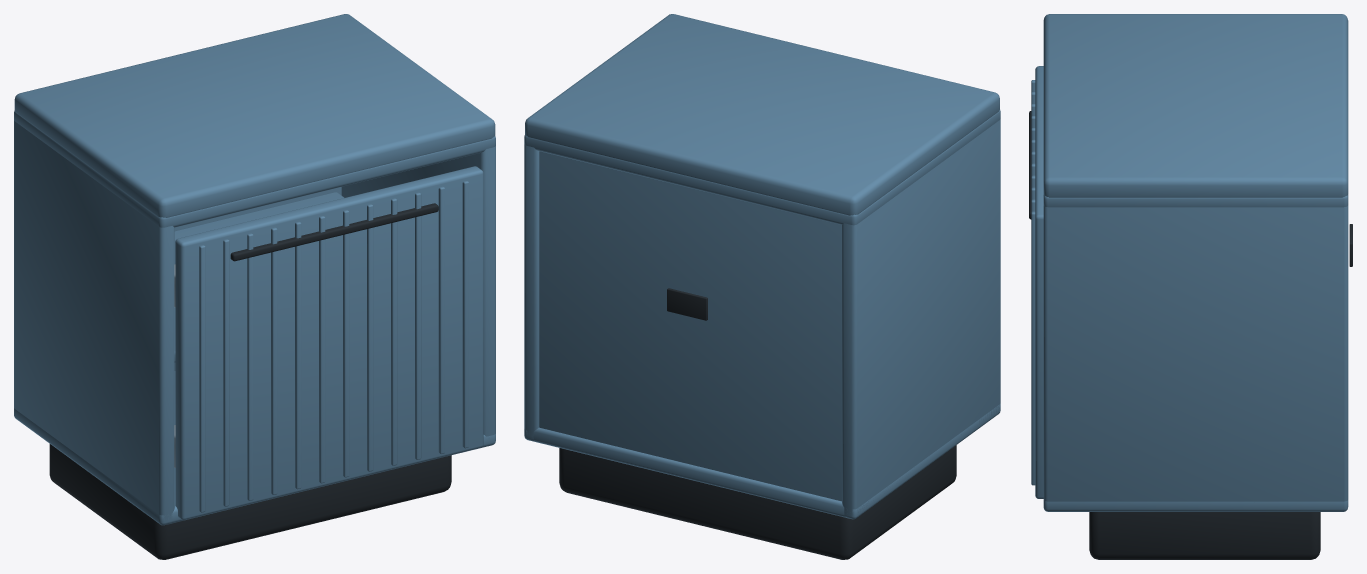
Rendered from cane-nightstand.glb.
The picture shows the model from 3 angles, left to right: view 1: azimuth 30°, elevation 25°; view 2: azimuth 150°, elevation 25°; view 3: azimuth 270°, elevation 25°; orthographic projection. The views are drawn at different scales.
Visible parts, largest first — view 1: cane-nightstand; view 2: cane-nightstand; view 3: cane-nightstand.
Boxes of the visible parts, x1,y1,x2,y2 form: cane-nightstand: (14,14,495,559); cane-nightstand: (524,14,1000,559); cane-nightstand: (1029,14,1352,559).
Bounding box in the file's own units: 0.54 × 0.59 × 0.44.
